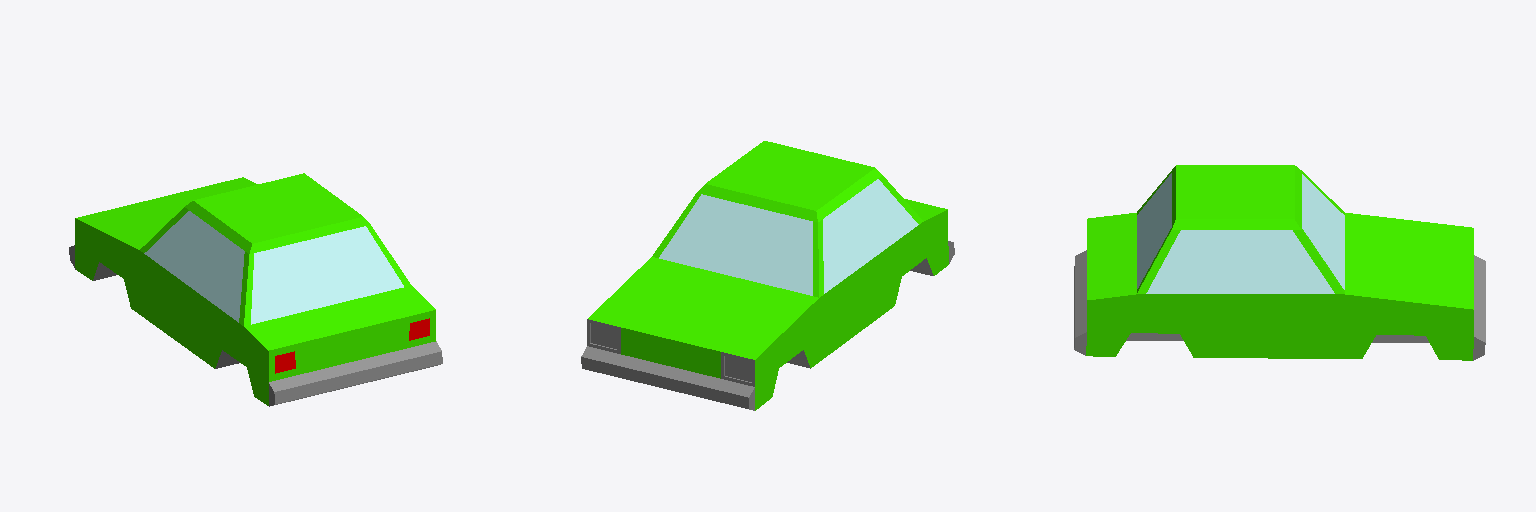
The model's file is body.obj.
3 views of the same model, side by side, from view 1: azimuth 30°, elevation 25°; view 2: azimuth 150°, elevation 25°; view 3: azimuth 270°, elevation 25° (orthographic).
Visible parts, largest first — view 1: cube1, cube1_extract7, cube1_extract5; view 2: cube1, cube1_extract7, cube1_extract5; view 3: cube1, cube1_extract5, cube1_extract7.
Part boxes in pixels (left/top/right/bottom): cube1: left=69, top=173, right=442, bottom=406; cube1_extract7: left=251, top=226, right=403, bottom=324; cube1_extract5: left=144, top=211, right=244, bottom=322; cube1: left=581, top=141, right=954, bottom=410; cube1_extract7: left=659, top=194, right=812, bottom=295; cube1_extract5: left=823, top=179, right=918, bottom=293; cube1: left=1074, top=165, right=1485, bottom=360; cube1_extract5: left=1146, top=230, right=1334, bottom=293; cube1_extract7: left=1137, top=173, right=1344, bottom=289.
Size of the model in its own units: 2 by 1.45 by 4.24.